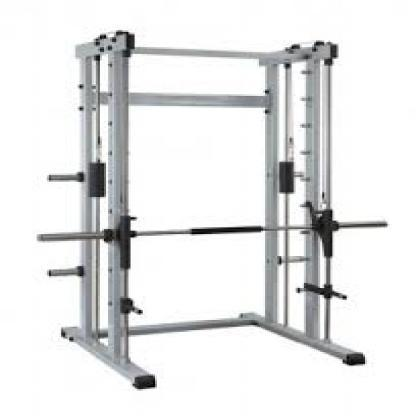smith machine: (36, 28, 388, 391)
